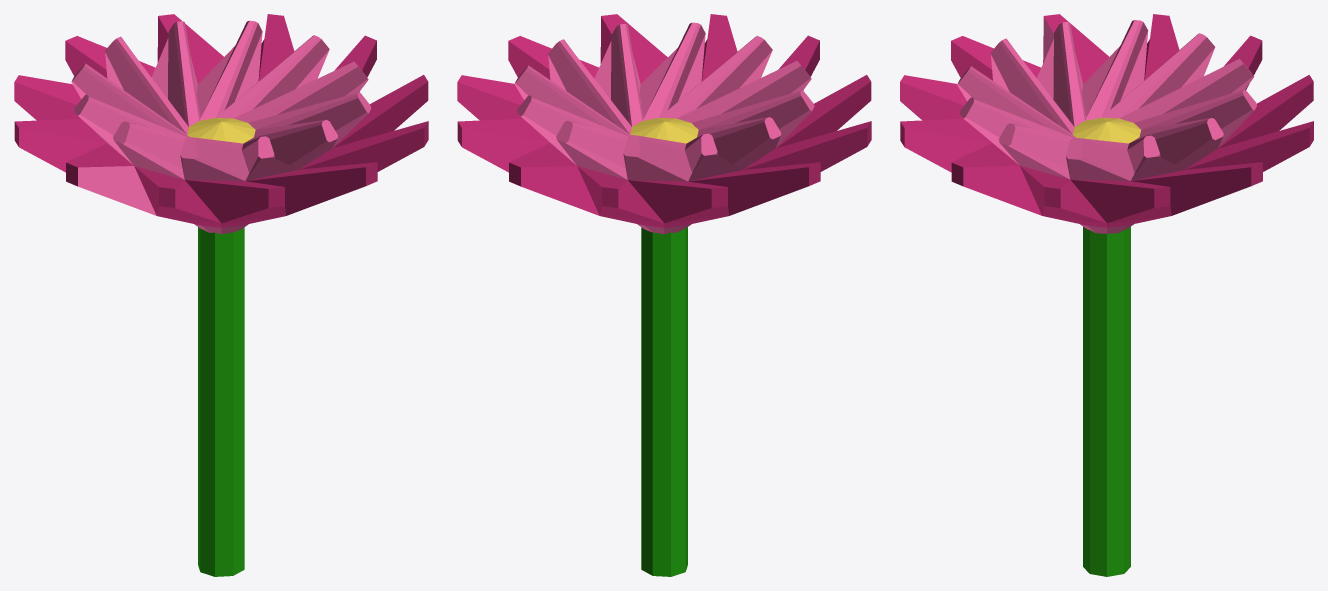
Rendered from Flower.fbx.
3 views of the same model, side by side, from view 1: azimuth 30°, elevation 25°; view 2: azimuth 150°, elevation 25°; view 3: azimuth 270°, elevation 25° (orthographic).
Parts seen in each view (by area): view 1: Sphere, Cylinder.005; view 2: Sphere, Cylinder.005; view 3: Sphere, Cylinder.005.
Boxes of the visible parts, x1,y1,x2,y2 form: Sphere: (14, 14, 428, 234); Cylinder.005: (198, 227, 244, 576); Sphere: (457, 14, 871, 234); Cylinder.005: (641, 227, 687, 576); Sphere: (900, 14, 1313, 233); Cylinder.005: (1083, 227, 1130, 576).
Bounding box in the file's own units: 28.63 × 37.35 × 28.63.
